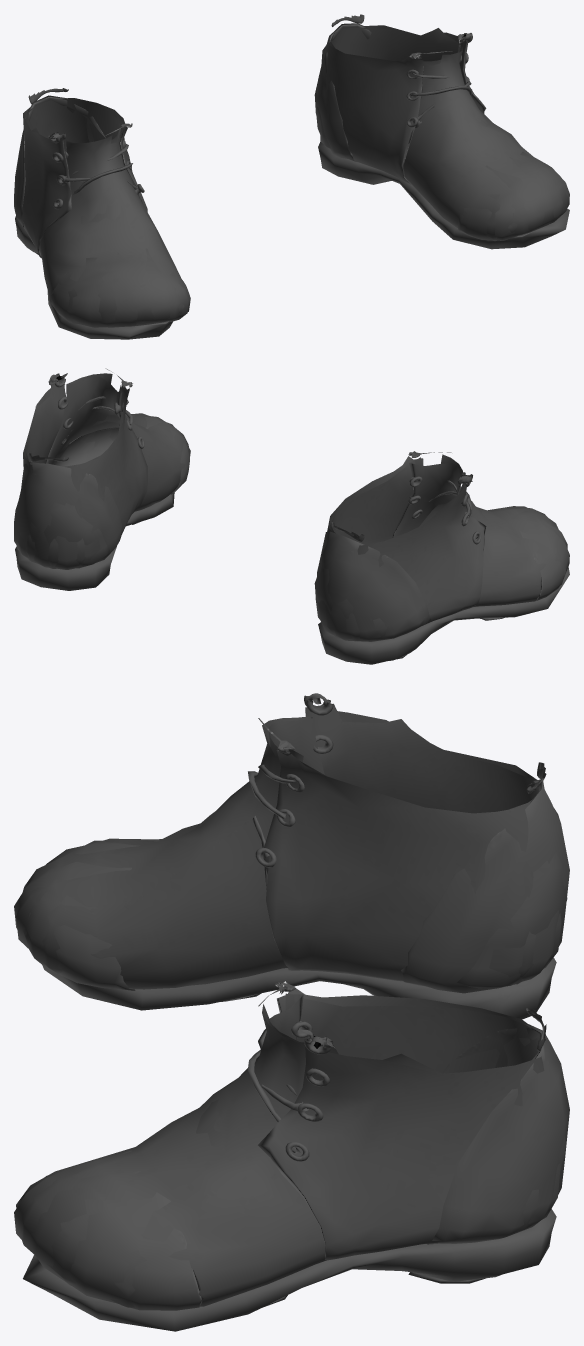
File: kmi_shoes.fbx
3 renders of one model, top to bottom at view 1: azimuth 30°, elevation 25°; view 2: azimuth 150°, elevation 25°; view 3: azimuth 270°, elevation 25°, orthographic. The views are drawn at different scales.
Parts seen in each view (by area): view 1: Leather_Boots_05; view 2: Leather_Boots_05; view 3: Leather_Boots_05.
Part boxes in pixels (box(x1,y1,x2,y2)): Leather_Boots_05: box(14, 14, 569, 339); Leather_Boots_05: box(14, 368, 569, 664); Leather_Boots_05: box(14, 693, 569, 1331).
Size of the model in its own units: 0.6569 by 0.2023 by 0.3728.
1 material, 1 textured.
